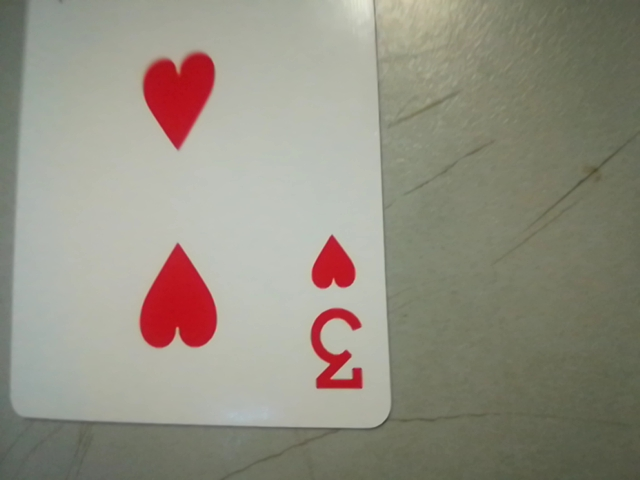hx 3: (295, 220, 377, 407)
